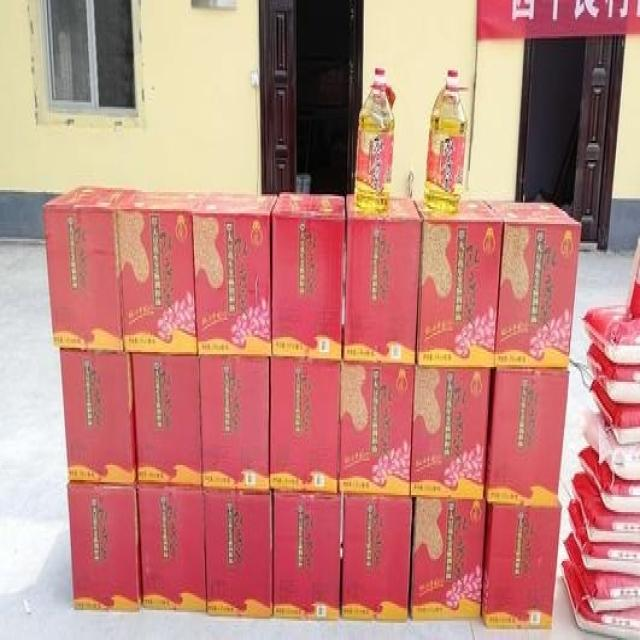box: (486, 201, 581, 371), (413, 198, 504, 369), (45, 186, 136, 352), (117, 192, 206, 354), (193, 192, 277, 356), (345, 192, 422, 365), (272, 192, 345, 363), (483, 371, 569, 508), (411, 367, 492, 499), (481, 499, 562, 629), (60, 350, 137, 486), (339, 363, 415, 497), (200, 356, 270, 493), (131, 354, 202, 489), (270, 358, 341, 493), (69, 482, 143, 610), (411, 497, 486, 621), (341, 495, 413, 621), (204, 491, 274, 619), (137, 484, 206, 612), (272, 491, 341, 619)
